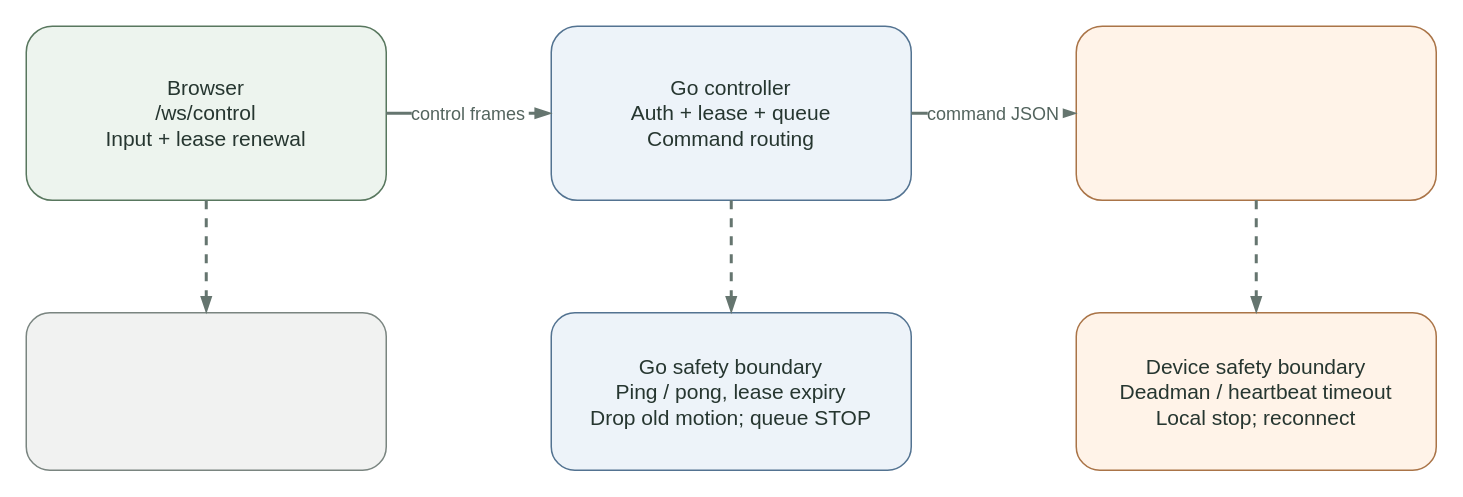
Some shapes in this 1463 by 497 pixel diagram are drawn without their labels. Here are the shapes that lost their labels. From the top down, the box of each, then its label:
(1075, 25, 1436, 200): ESP32 firmware /ws/device Motion + telemetry
(25, 311, 386, 470): Browser disconnect Reconnect control socket Renew or reacquire lease
